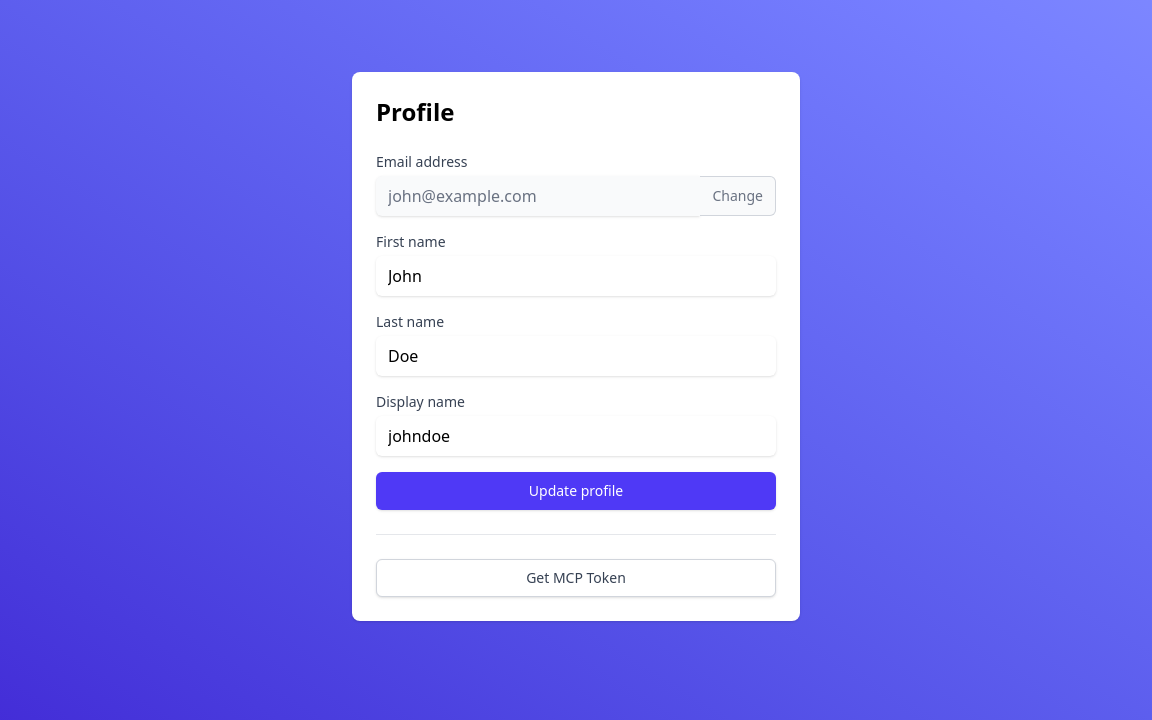
Test: Profile Component › shows loading state while submitting
Expected: the field labelled "Display name" is shown, [376,416,776,456]
Click the button "Update profile". click: (576, 491)
box: [376,472,776,510]
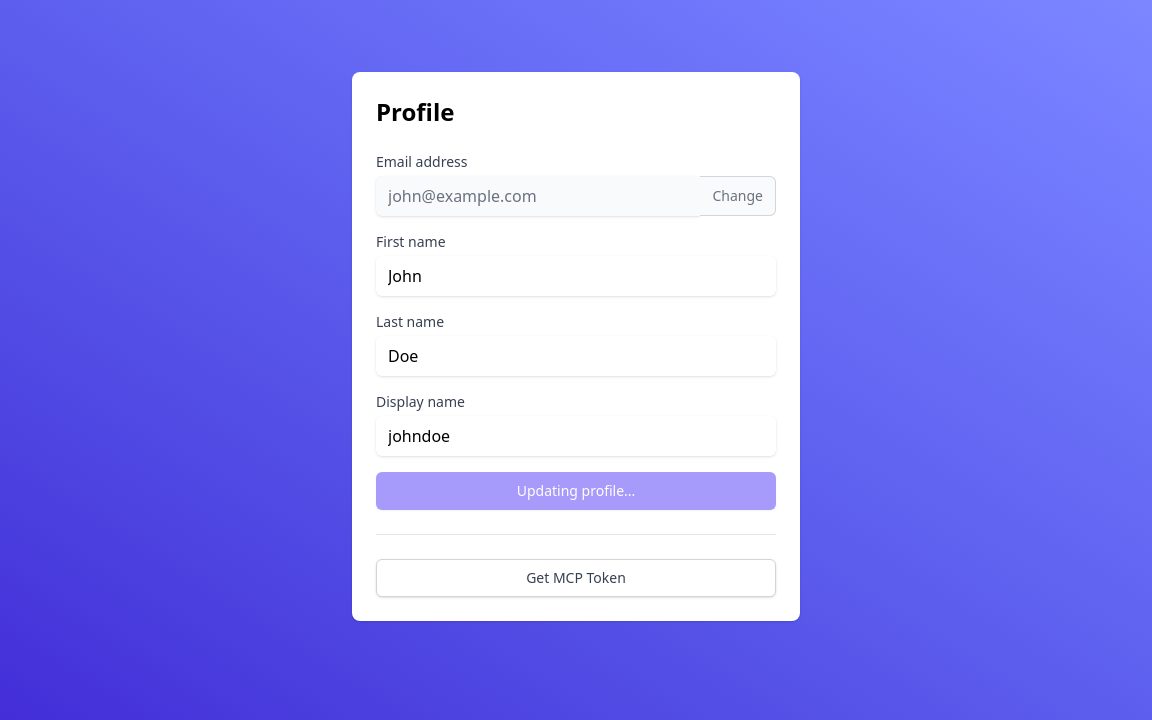
Expected: the button "Updating profile..." is disabled, [376,472,776,510]
